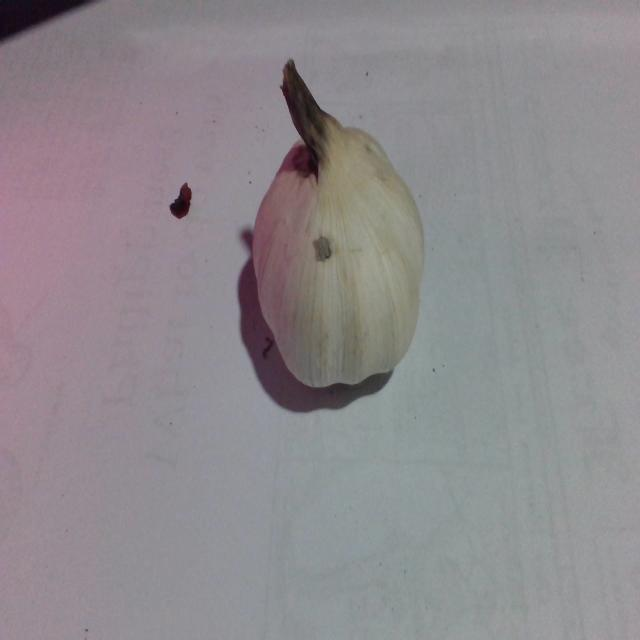garlic: (247, 101, 432, 401)
